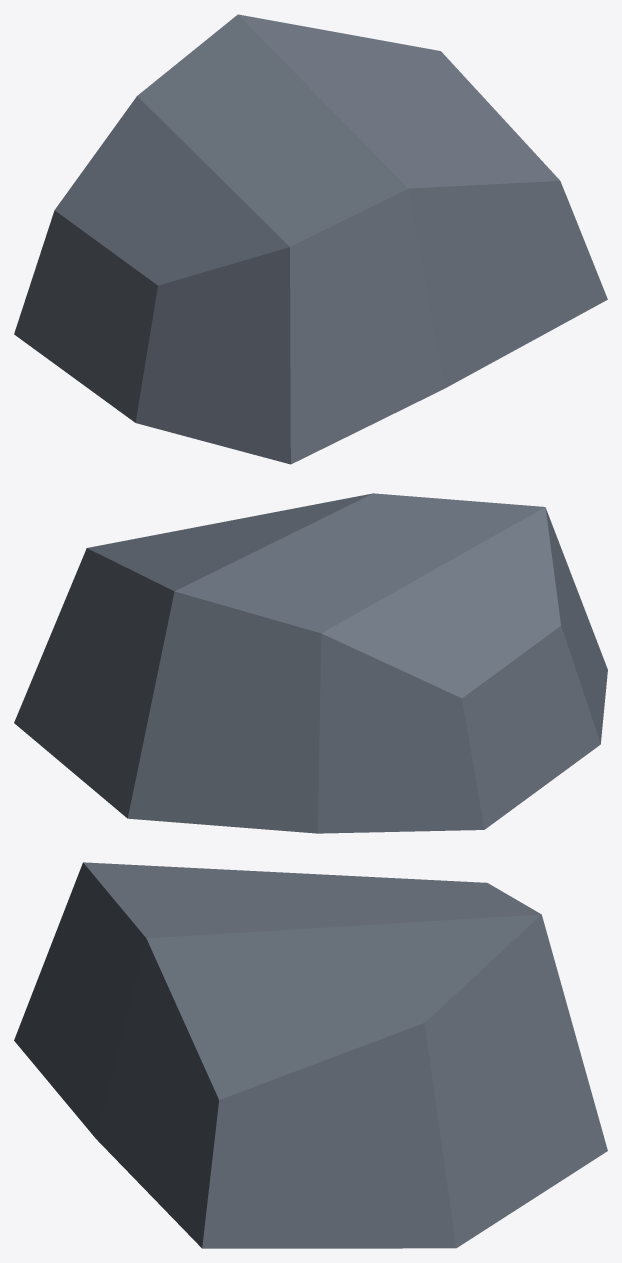
Rendered from RockBig.fbx.
3 renders of one model, top to bottom at view 1: azimuth 30°, elevation 25°; view 2: azimuth 150°, elevation 25°; view 3: azimuth 270°, elevation 25°, orthographic. The views are drawn at different scales.
Parts seen in each view (by area): view 1: RockBig; view 2: RockBig; view 3: RockBig.
Boxes of the visible parts, x1,y1,x2,y2 form: RockBig: (14,14,607,464); RockBig: (14,493,607,833); RockBig: (14,862,607,1248).
Bounding box in the file's own units: 186 × 80.11 × 189.
